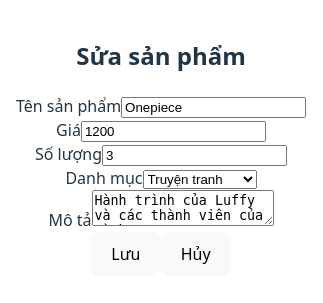
Scenario: Product  Mock Tests › TC4: Cập nhật sản phẩm thành công
Replace the text in the field with test id "product-name" with "Onepiece (Bản mới)": (214, 108) [121, 97, 306, 118]
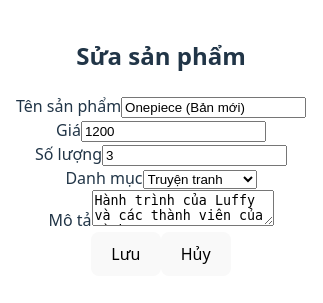
Click the button with test id "product-save": (126, 254) [91, 232, 160, 276]
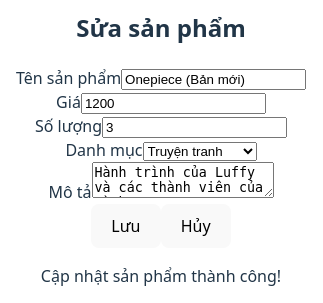
Result: the text "Cập nhật sản phẩm thành công!" is shown at [41, 264, 281, 286]
